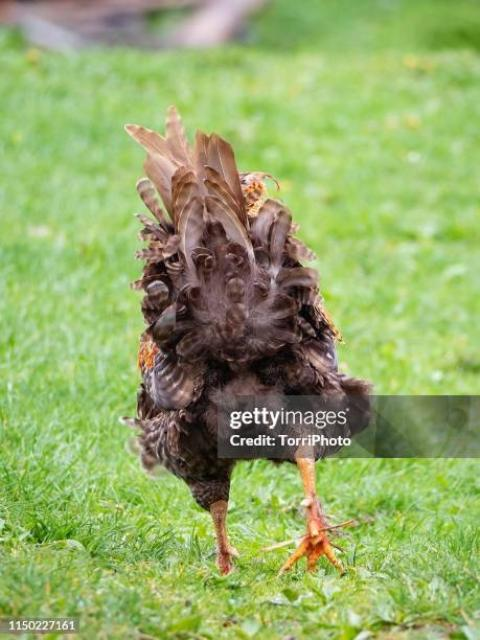Chicken: (119, 106, 373, 582)
